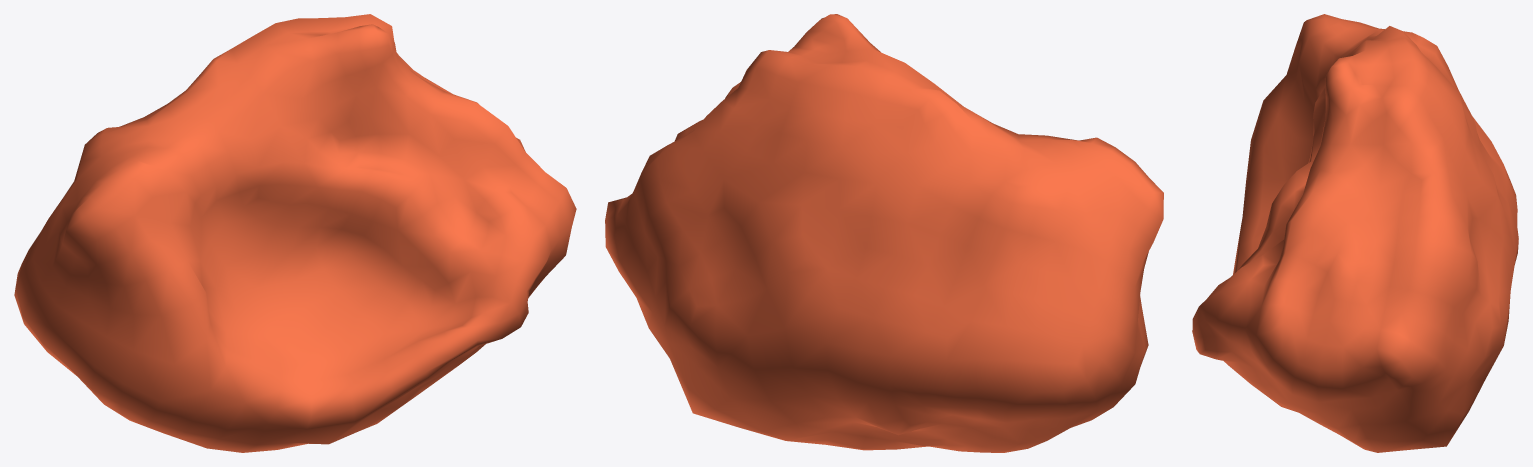
Rendered from Pedraustor2.fbx.
3 views of the same model, side by side, from view 1: azimuth 30°, elevation 25°; view 2: azimuth 150°, elevation 25°; view 3: azimuth 270°, elevation 25° (orthographic). The views are drawn at different scales.
Parts seen in each view (by area): view 1: sphere1; view 2: sphere1; view 3: sphere1.
Part boxes in pixels (x1,y1,x2,y2): sphere1: (14,14,576,452); sphere1: (605,14,1163,452); sphere1: (1192,14,1518,452).
Size of the model in its own units: 1.42 by 1.06 by 0.8337.
